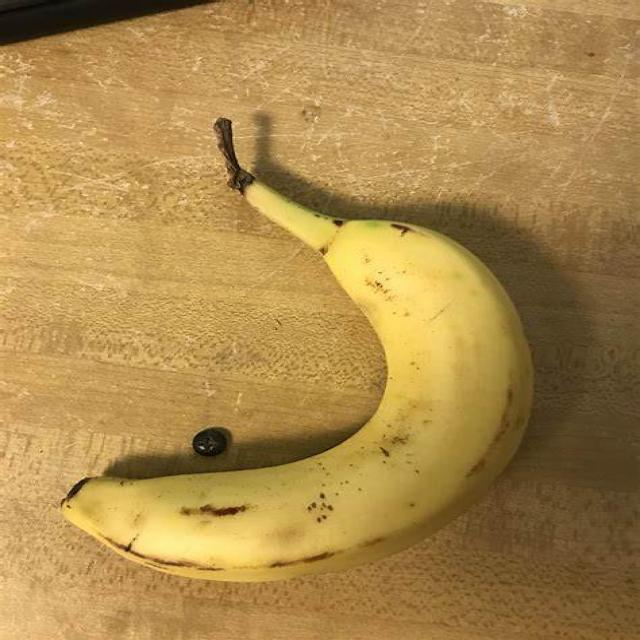Banana: (58, 118, 538, 584)
